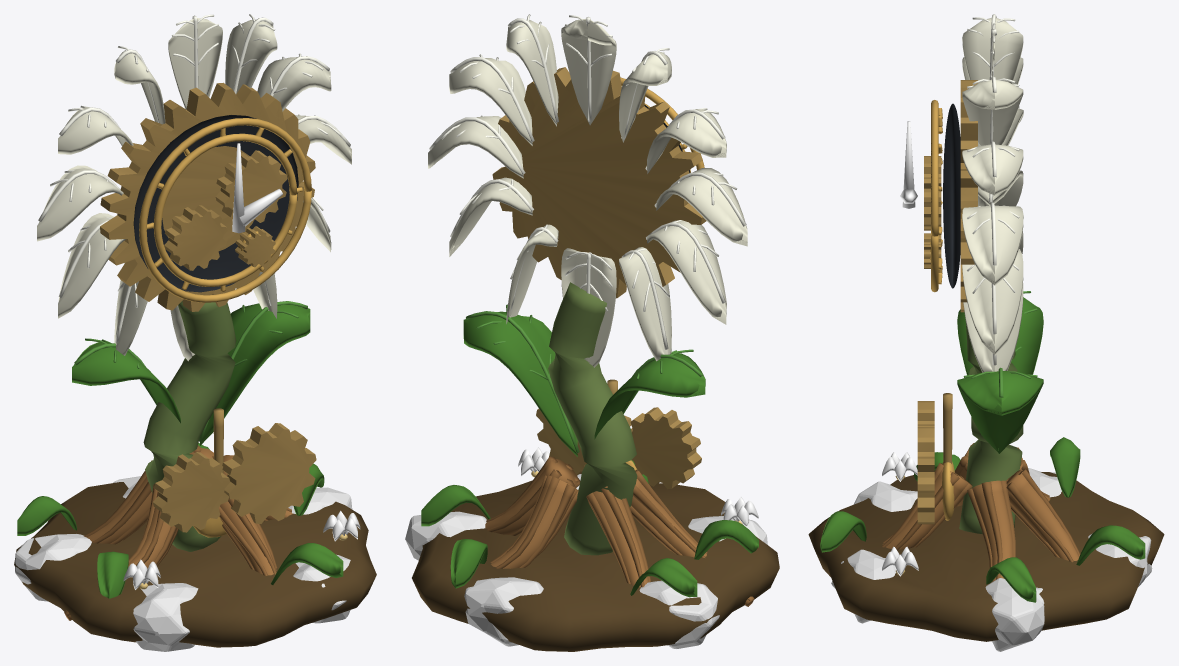
File: clockflower-2.fbx
3 views of the same model, side by side, from view 1: azimuth 30°, elevation 25°; view 2: azimuth 150°, elevation 25°; view 3: azimuth 270°, elevation 25° (orthographic). The views are drawn at different scales.
Parts seen in each view (by area): view 1: Turret_Metal, clockflower-2_Organic, Petals_Petal, Core_Metal, Turret_PortalBamboo, clockflower-2_Stone, clockflower-2_Bark, clockflower-2_PortalBamboo, clockflower-2_Petal, ClockHands_Metal, Pendulum_Metal; view 2: Petals_Petal, clockflower-2_Organic, Turret_Metal, Turret_PortalBamboo, clockflower-2_Bark, clockflower-2_Stone, clockflower-2_PortalBamboo, Core_Metal, clockflower-2_Petal; view 3: clockflower-2_Organic, Petals_Petal, Turret_PortalBamboo, clockflower-2_Bark, Turret_Metal, clockflower-2_Stone, clockflower-2_PortalBamboo, Core_Metal, Pendulum_Metal, clockflower-2_Petal, ClockHands_Metal.
Boxes of the visible parts, box(x1,y1,x2,y2) form: Turret_Metal: box(100, 82, 315, 311); clockflower-2_Organic: box(14, 482, 376, 647); Petals_Petal: box(37, 14, 351, 361); Core_Metal: box(153, 150, 316, 532); Turret_PortalBamboo: box(72, 301, 310, 551); clockflower-2_Stone: box(15, 476, 352, 651); clockflower-2_Bark: box(64, 445, 292, 620); clockflower-2_PortalBamboo: box(17, 443, 343, 598); clockflower-2_Petal: box(123, 510, 360, 589); ClockHands_Metal: box(232, 143, 282, 233); Pendulum_Metal: box(193, 408, 226, 537); Petals_Petal: box(428, 14, 747, 367); clockflower-2_Organic: box(412, 471, 779, 651); Turret_Metal: box(492, 67, 706, 298); Turret_PortalBamboo: box(463, 282, 705, 555); clockflower-2_Bark: box(485, 456, 754, 606); clockflower-2_Stone: box(405, 474, 767, 648); clockflower-2_PortalBamboo: box(421, 460, 758, 597); Core_Metal: box(536, 407, 701, 489); clockflower-2_Petal: box(518, 447, 758, 527); clockflower-2_Organic: box(808, 472, 1164, 641); Petals_Petal: box(962, 14, 1023, 372); Turret_PortalBamboo: box(957, 291, 1043, 534); clockflower-2_Bark: box(882, 443, 1080, 581); Turret_Metal: box(931, 80, 977, 312); clockflower-2_Stone: box(831, 468, 1152, 651); clockflower-2_PortalBamboo: box(820, 437, 1145, 602); Core_Metal: box(917, 156, 941, 524); Pendulum_Metal: box(942, 393, 954, 520); clockflower-2_Petal: box(882, 452, 918, 576); ClockHands_Metal: box(900, 121, 917, 208).
Size of the model in its own units: 83.95 by 143 by 82.7.
